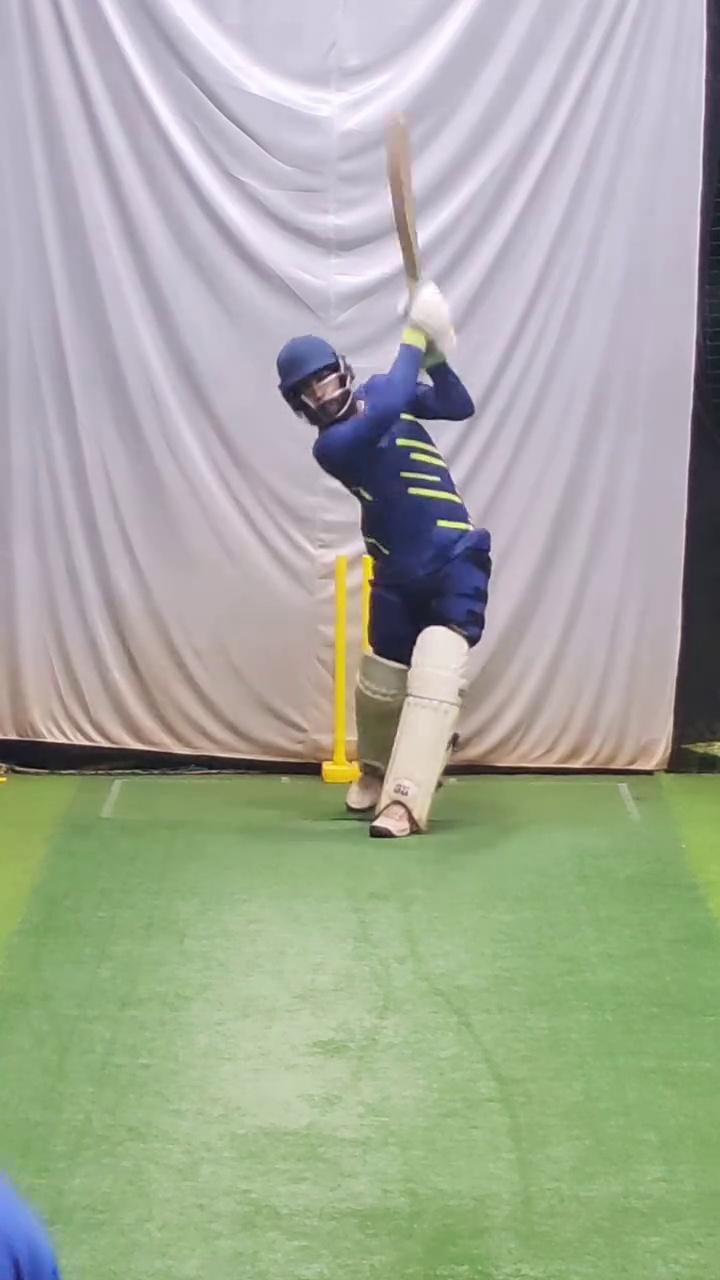bat: (379, 107, 427, 295)
